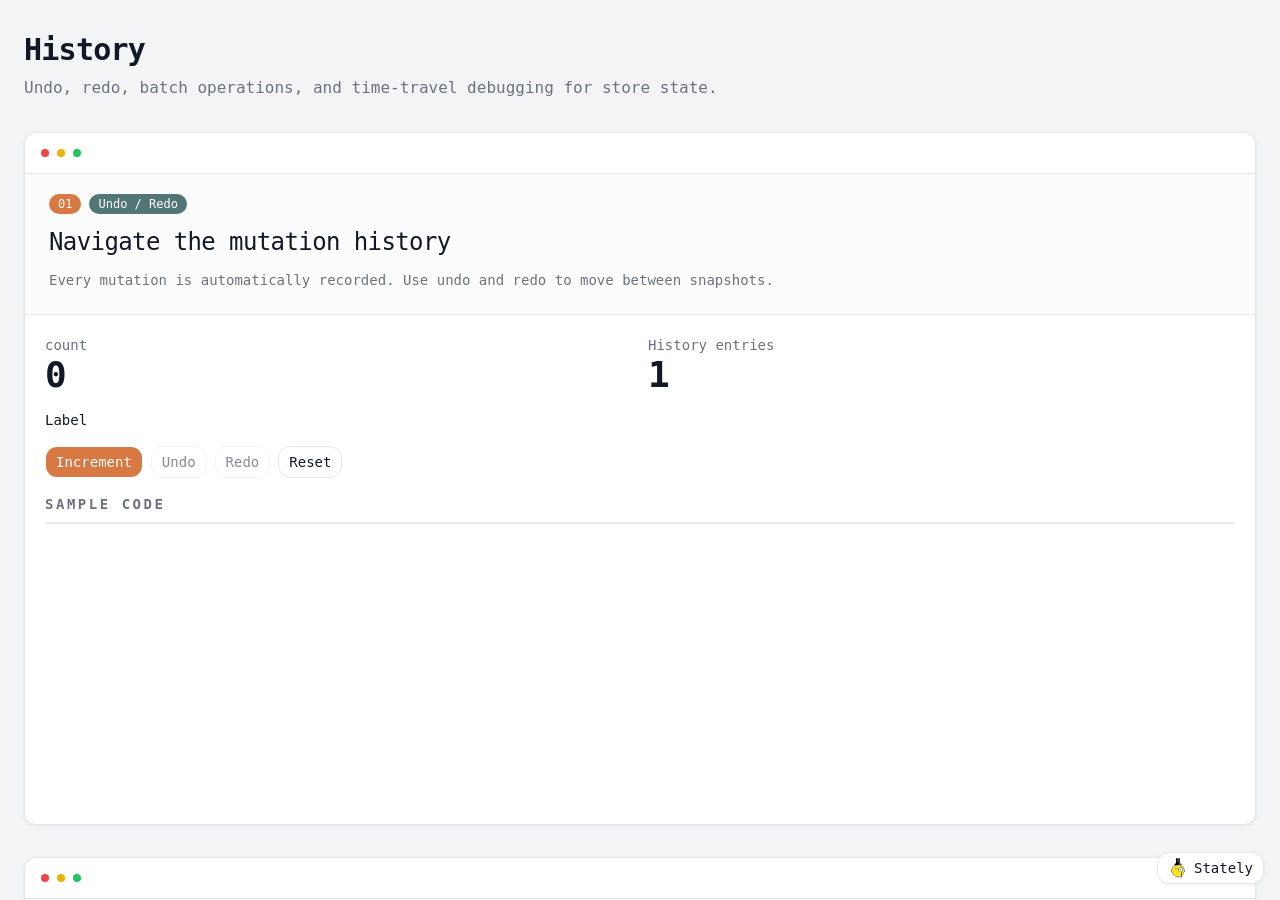
Test: History page › undo reverts last mutation
Click the button with test id "history-increment": coordinates (94, 462) [45,446,143,478]
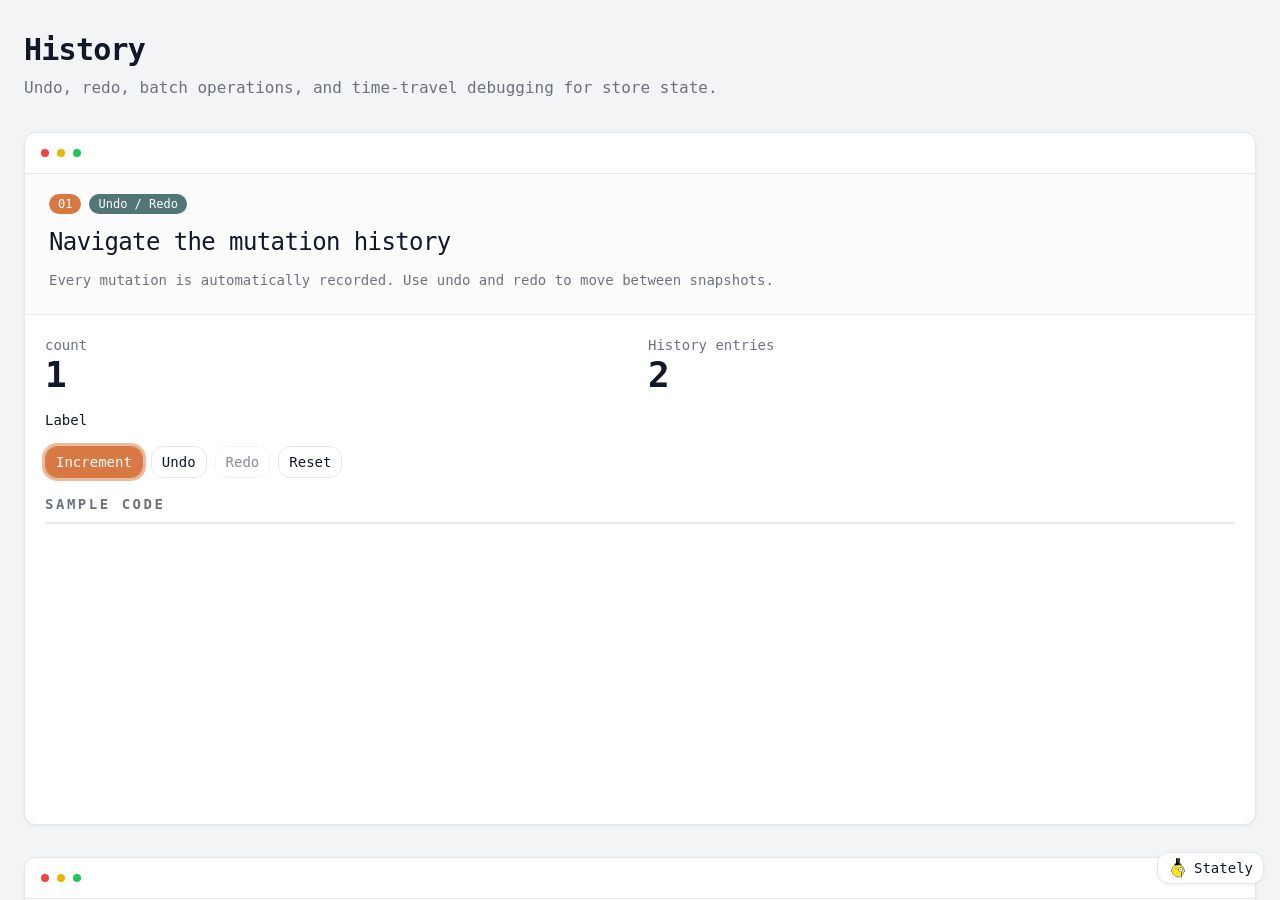
Now the text with test id "history-count" reads "1", box [45,354,67,395]
Click the button with test id "history-undo": coordinates (179, 462) [151,446,207,478]
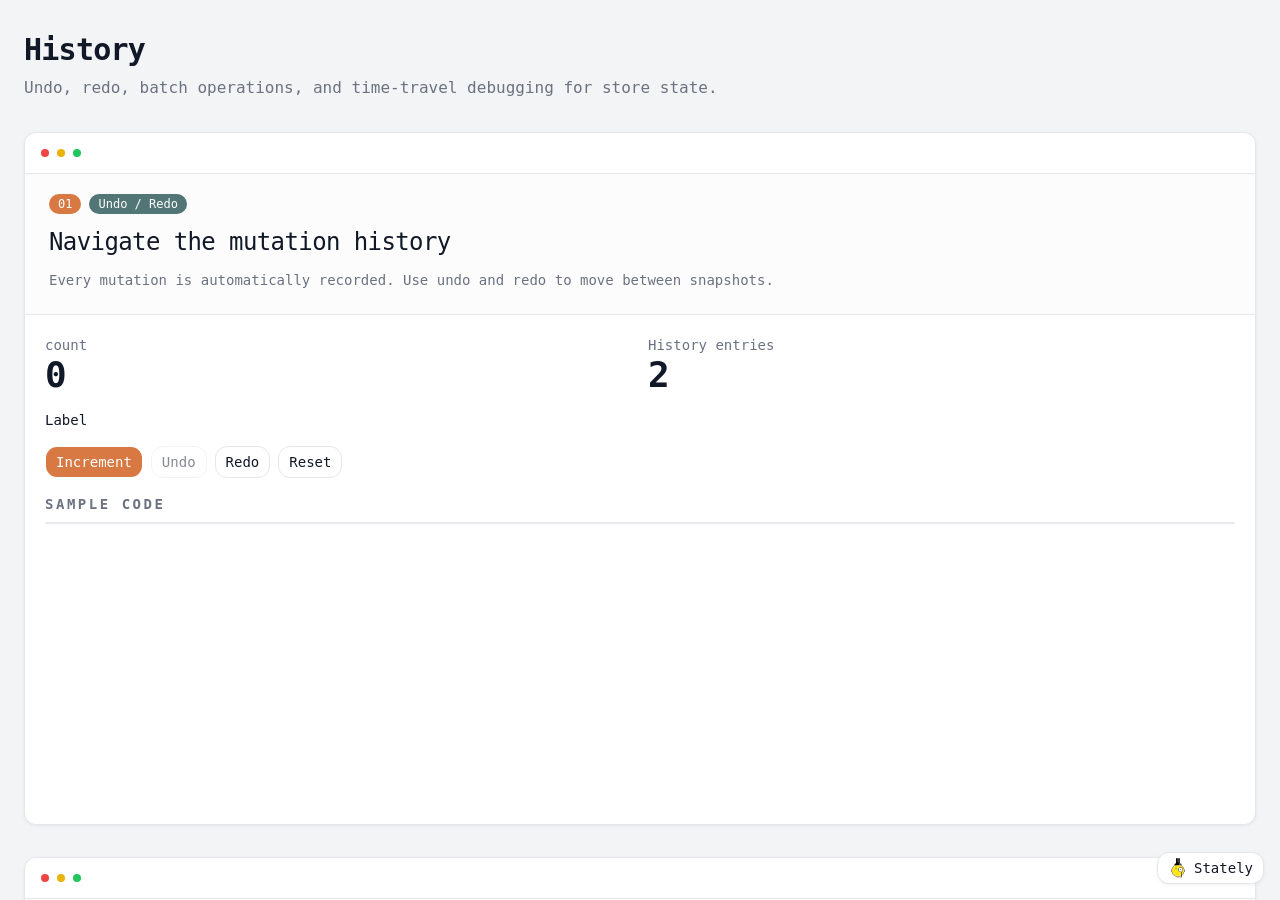
Now the text with test id "history-count" reads "0", box [45,354,67,395]
